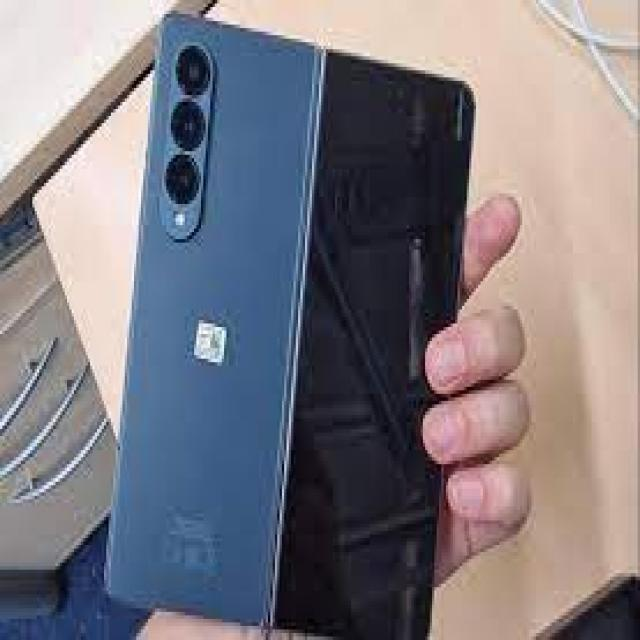Mobile: (99, 9, 478, 640)
